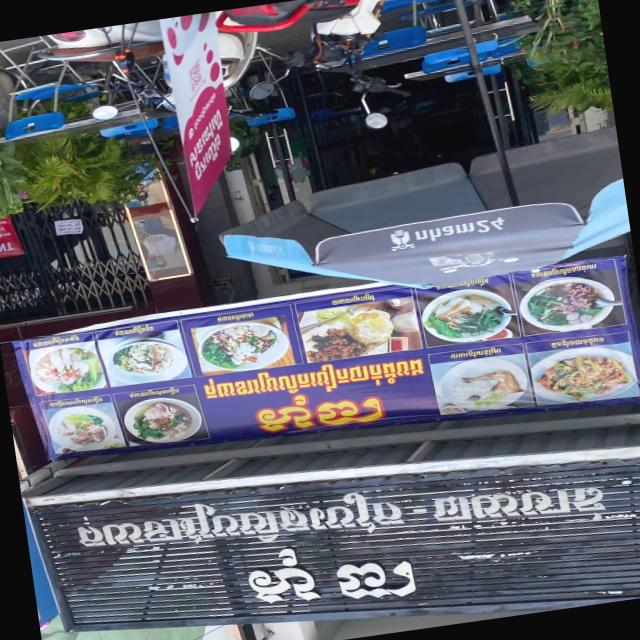1: (67, 473, 617, 554), (234, 540, 430, 611), (248, 387, 394, 439)
666: (473, 214, 508, 237)
Yolov11kh: (199, 353, 427, 406)
